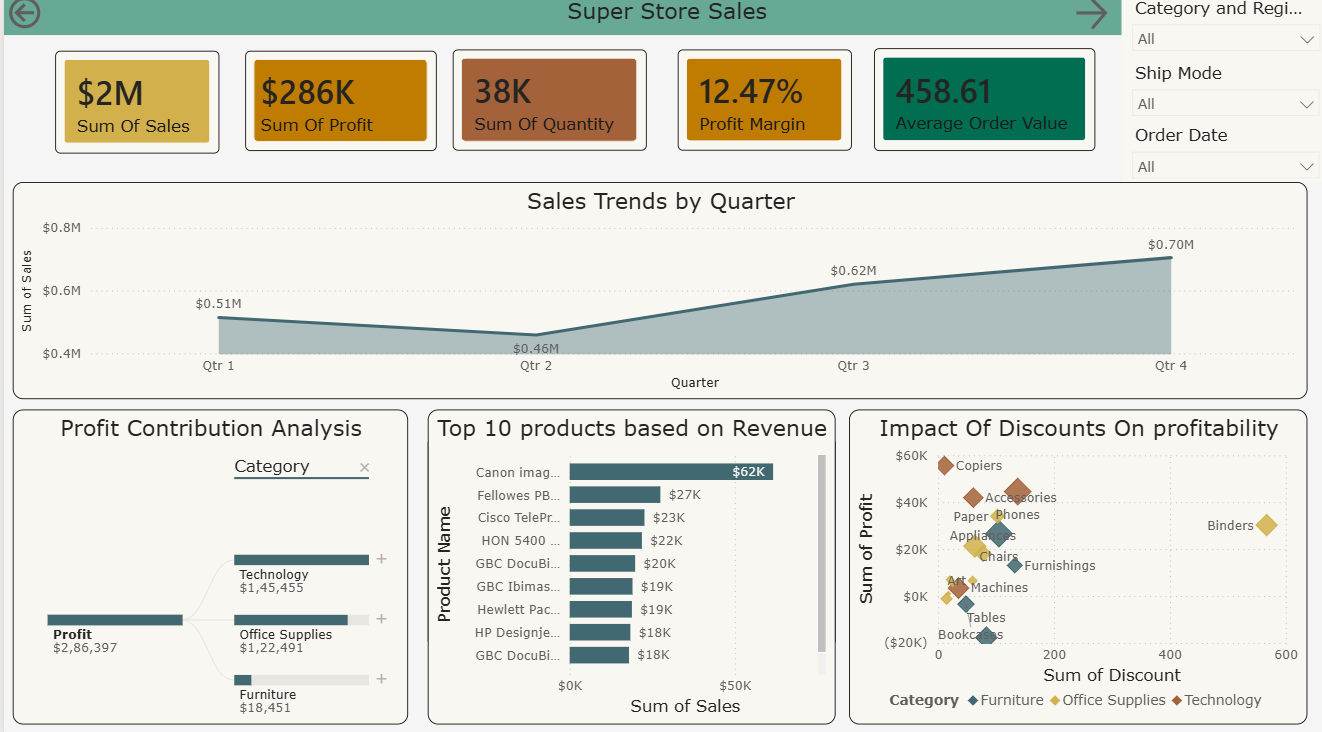

The dashboard page shown, as its layout file describes it:
{"tool":"powerbi","page":{"name":"Page 1","canvas":[1280,720],"ordinal":0},"visuals":[{"type":"textbox","box":[0,0,1280,41.8],"z":0},{"type":"cardVisual","fields":{"Data":["Sum(super store sales.Profit)"]},"box":[223.2,50.7,176.1,96.5],"z":1000},{"type":"cardVisual","fields":{"Data":["Sum(super store sales.Quantity)"]},"box":[431.9,48.3,187,97.7],"z":2000},{"type":"donutChart","title":"Shipping Mode Distribution","fields":{"Category":["super store sales.Ship Mode"],"Y":["Sum(super store sales.Sales)"]},"box":[815.6,183.4,442.8,209.9],"z":3000},{"type":"lineChart","title":" Sales Trends by Quarter","fields":{"Category":["super store sales.Order Date.Variation.Date Hierarchy.Quarter"],"Y":["Sum(super store sales.Sales)"]},"box":[8.4,183.4,381.2,209.9],"z":4000},{"type":"columnChart","title":"Regional  Profit Performance","fields":{"Category":["super store sales.Region"],"Y":["Sum(super store sales.Profit)"]},"box":[409,183.4,386.1,209.9],"z":5000},{"type":"cardVisual","fields":{"Data":["super store sales.profit margin"]},"box":[647.9,47.1,167.7,97.7],"z":6000},{"type":"cardVisual","fields":{"Data":["Sum(super store sales.Sales)"]},"box":[21.7,49.5,158,98.9],"z":7000},{"type":"cardVisual","fields":{"Data":["super store sales.Average Order Value"]},"box":[839.7,45.8,213.5,98.9],"z":8000},{"type":"decompositionTreeVisual","title":"Profit Contribution Analysis","fields":{"Analyze":["Sum(super store sales.Profit)"],"ExplainBy":["super store sales.Category","super store sales.Customer Name","super store sales.Region","super store sales.Sub-Category","super store sales.Ship Mode"]},"box":[8.4,403,381.2,304],"z":9000},{"type":"barChart","title":"Top 10 products based on Revenue","fields":{"Y":["Sum(super store sales.Sales)"],"Category":["super store sales.Product Name"]},"box":[409,403,393.3,304],"z":10000},{"type":"scatterChart","title":"Impact Of Discounts On profitability","fields":{"X":["Sum(super store sales.Discount)"],"Y":["Sum(super store sales.Profit)"],"Series":["super store sales.Category"],"Size":["Sum(super store sales.Sales)"],"Category":["super store sales.Sub-Category"]},"box":[831.2,403,442.8,304],"z":11000},{"type":"slicer","fields":{"Values":["super store sales.Category","super store sales.Region"]},"box":[1078.3,0,201.7,62.5],"z":12000},{"type":"actionButton","box":[0,0,100,40],"z":13000},{"type":"slicer","fields":{"Values":["super store sales.Ship Mode"]},"box":[1078.9,62.2,201.1,66.7],"z":14000},{"type":"actionButton","box":[1028.8,1.2,50,40],"z":15000},{"type":"slicer","fields":{"Values":["super store sales.Order Date"]},"box":[1078.6,123.1,201.5,60.3],"z":16000}]}

Visuals, with their boxes in screenshot pixels (x1, y1, x2, y2), scaled from the page's 1280x720 canvas onto the 1322x732 screenshot:
textbox: Rect(0, 0, 1321, 42)
cardVisual - Sum(super store sales.Profit): Rect(231, 52, 412, 150)
cardVisual - Sum(super store sales.Quantity): Rect(446, 49, 639, 148)
"Shipping Mode Distribution" donutChart: Rect(842, 186, 1300, 400)
" Sales Trends by Quarter" lineChart: Rect(9, 186, 402, 400)
"Regional  Profit Performance" columnChart: Rect(422, 186, 821, 400)
cardVisual - super store sales.profit margin: Rect(669, 48, 842, 147)
cardVisual - Sum(super store sales.Sales): Rect(22, 50, 186, 151)
cardVisual - super store sales.Average Order Value: Rect(867, 47, 1088, 147)
"Profit Contribution Analysis" decompositionTreeVisual: Rect(9, 410, 402, 719)
"Top 10 products based on Revenue" barChart: Rect(422, 410, 829, 719)
"Impact Of Discounts On profitability" scatterChart: Rect(858, 410, 1316, 719)
slicer - super store sales.Category x super store sales.Region: Rect(1114, 0, 1321, 64)
actionButton: Rect(0, 0, 103, 41)
slicer - super store sales.Ship Mode: Rect(1114, 63, 1321, 131)
actionButton: Rect(1063, 1, 1114, 42)
slicer - super store sales.Order Date: Rect(1114, 125, 1321, 186)
